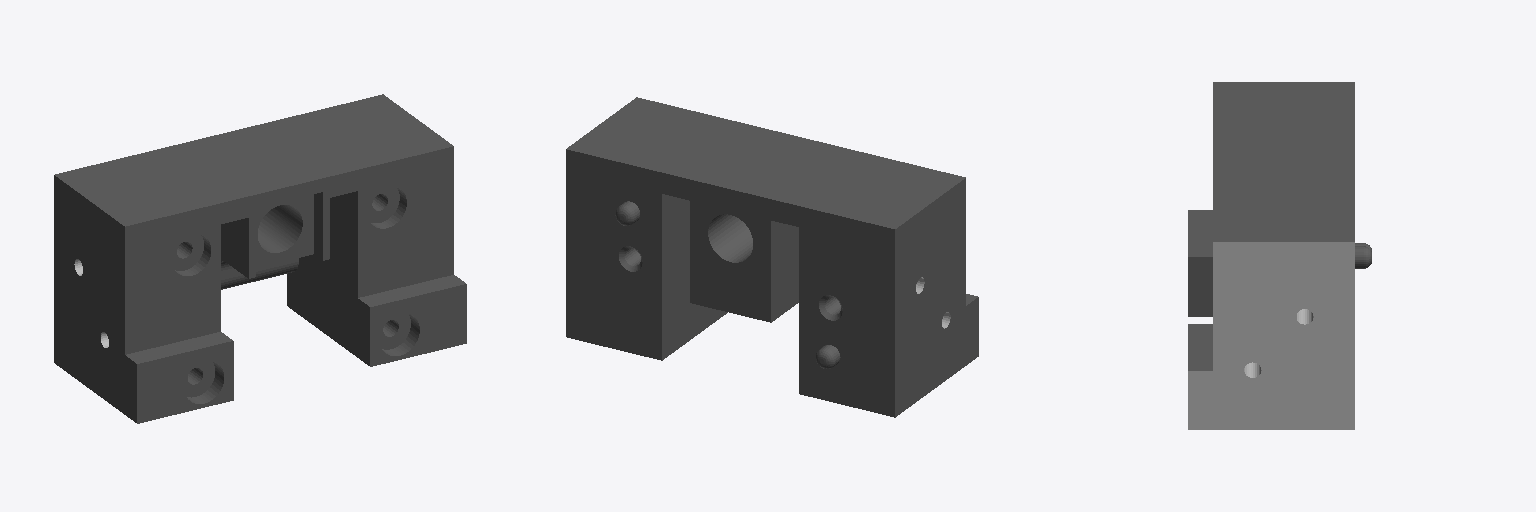
The model's file is camera_holder_base.obj.
The picture shows the model from 3 angles: view 1: azimuth 30°, elevation 25°; view 2: azimuth 150°, elevation 25°; view 3: azimuth 270°, elevation 25°; orthographic projection.
Parts seen in each view (by area): view 1: Solid13; view 2: Solid13; view 3: Solid13.
Part boxes in pixels (left/top/right/bottom): Solid13: left=54, top=94, right=466, bottom=423; Solid13: left=566, top=97, right=978, bottom=417; Solid13: left=1188, top=82, right=1371, bottom=429.
Size of the model in its own units: 43.79 by 23.9 by 21.25.